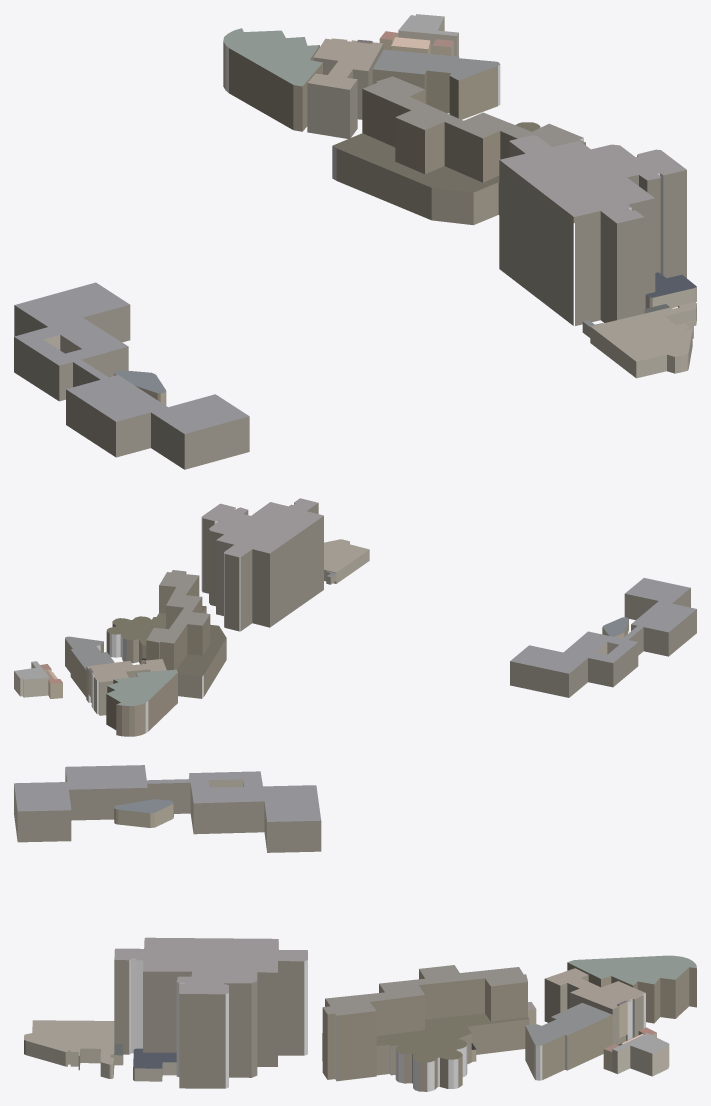
The picture shows the model from 3 angles, top to bottom: view 1: azimuth 30°, elevation 25°; view 2: azimuth 150°, elevation 25°; view 3: azimuth 270°, elevation 25°; orthographic projection. The views are drawn at different scales.
Parts seen in each view (by area): view 1: tuile; view 2: tuile; view 3: tuile.
Boxes of the visible parts, x1=… form: tuile: x1=14, y1=14, x2=696, y2=469; tuile: x1=14, y1=498, x2=696, y2=736; tuile: x1=14, y1=765, x2=696, y2=1091.
Bounding box in the file's own units: 275 × 44.38 × 280.
